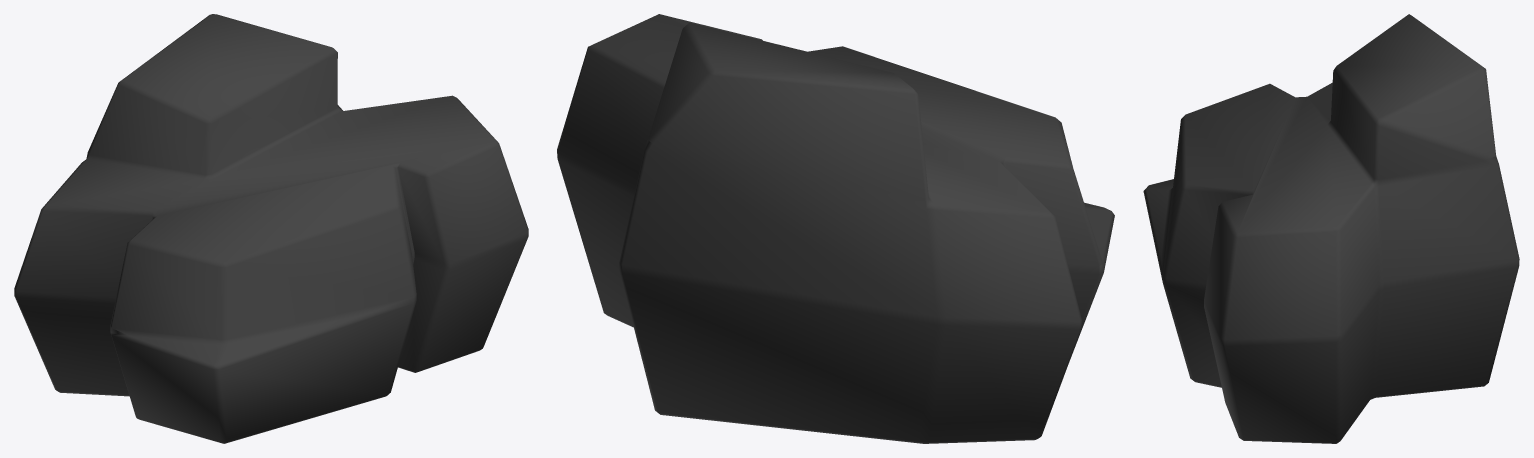
File: big_stone.glb
3 views of the same model, side by side, from view 1: azimuth 30°, elevation 25°; view 2: azimuth 150°, elevation 25°; view 3: azimuth 270°, elevation 25° (orthographic). The views are drawn at different scales.
Visible parts, largest first — view 1: geometry_0; view 2: geometry_0; view 3: geometry_0.
Part boxes in pixels (<box>): geometry_0: <box>14,14,528,443</box>; geometry_0: <box>557,14,1114,443</box>; geometry_0: <box>1143,14,1519,443</box>.
Size of the model in its own units: 2.06 by 1.27 by 1.46.
1 material, 1 textured.
